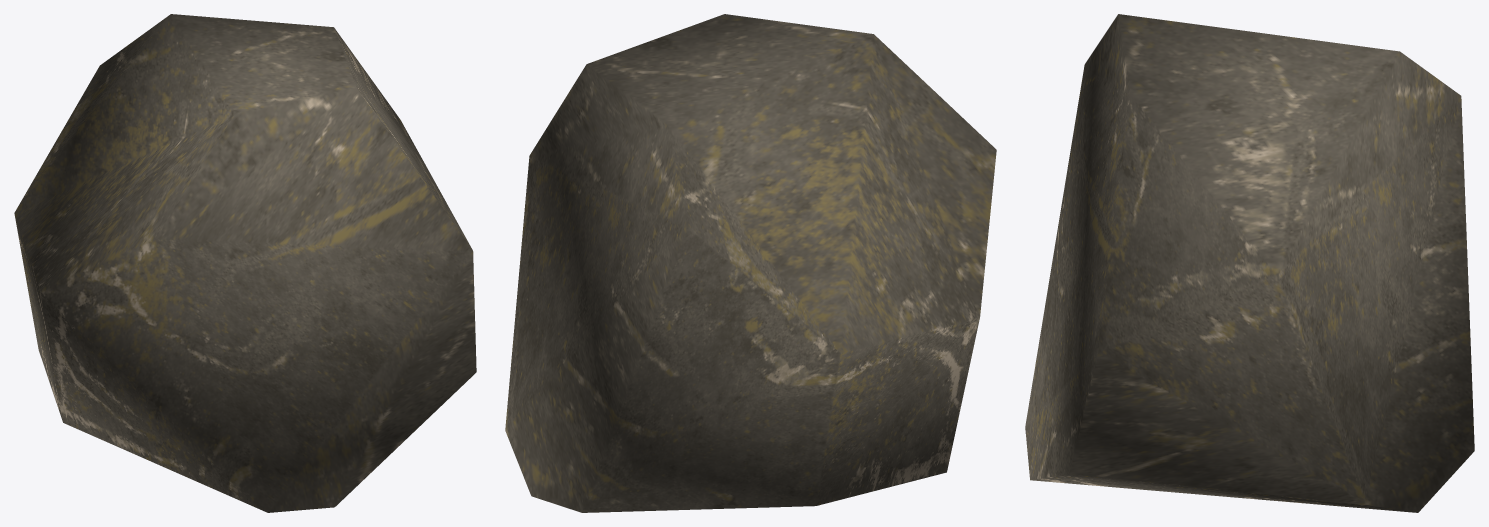
Rendered from giant_rocks_medium_two.glb.
3 renders of one model, left to right at view 1: azimuth 30°, elevation 25°; view 2: azimuth 150°, elevation 25°; view 3: azimuth 270°, elevation 25°, orthographic. The views are drawn at different scales.
Visible parts, largest first — view 1: 02-rock-small-low_rock-small-dark-01_0; view 2: 02-rock-small-low_rock-small-dark-01_0; view 3: 02-rock-small-low_rock-small-dark-01_0.
Part boxes in pixels (bbox=[...]): 02-rock-small-low_rock-small-dark-01_0: bbox=[14, 14, 476, 512]; 02-rock-small-low_rock-small-dark-01_0: bbox=[505, 14, 996, 512]; 02-rock-small-low_rock-small-dark-01_0: bbox=[1025, 14, 1474, 512].
Bounding box in the file's own units: 13.7 × 13.09 × 12.33.
Materials: 1 (1 with a texture image).
